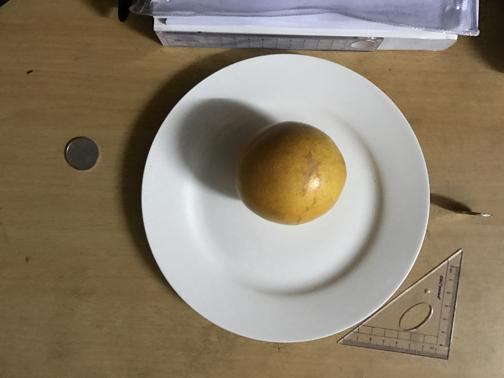coin: (61, 136, 100, 171)
orange: (238, 118, 347, 224)
